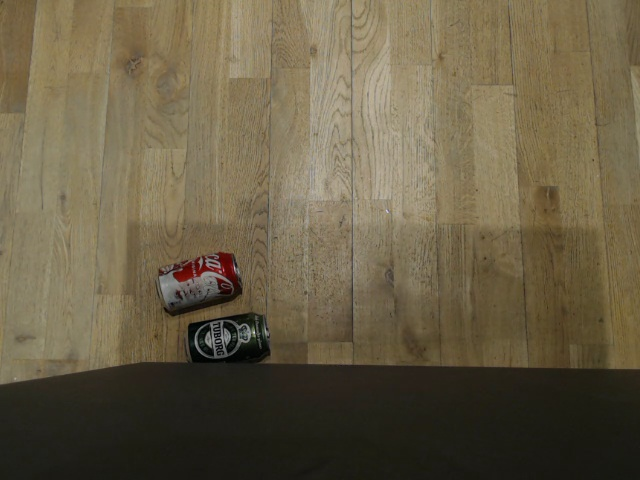beer: (181, 312, 270, 364)
cola: (151, 247, 244, 312)
